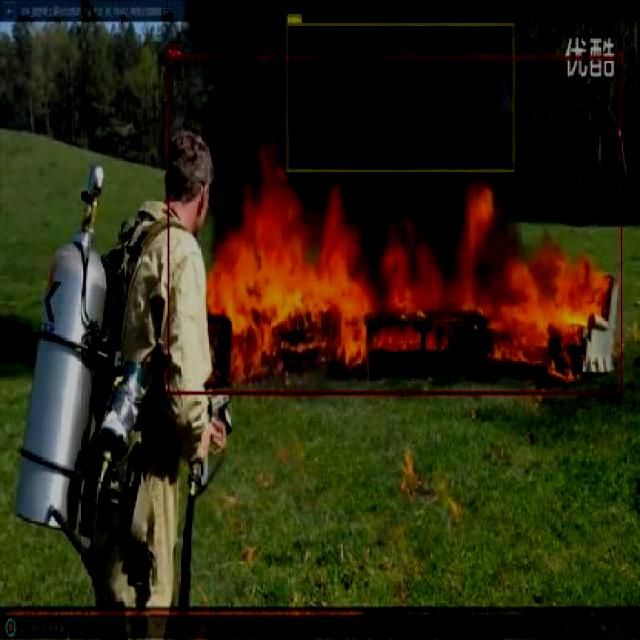fire: (168, 56, 622, 393)
smoke: (286, 22, 514, 172)
